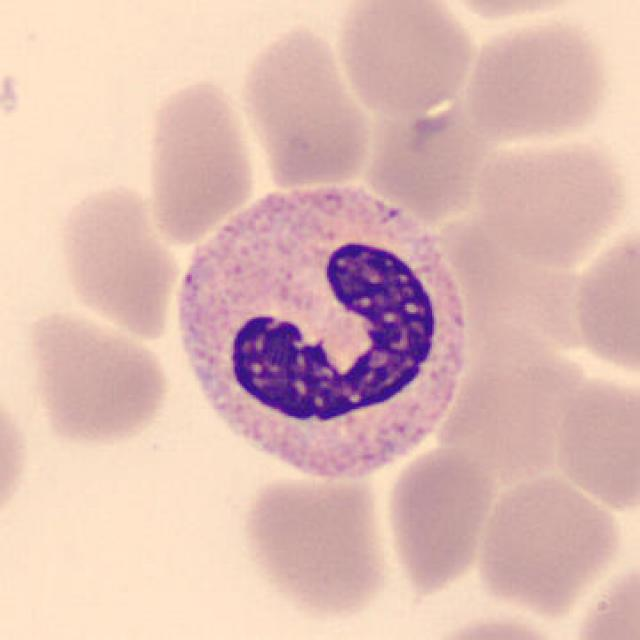Neutrophil: (162, 171, 476, 508)
RBC: (236, 462, 393, 622), (235, 19, 377, 192), (471, 469, 624, 617), (20, 305, 174, 450), (471, 130, 631, 266), (53, 178, 185, 340), (140, 72, 260, 245), (459, 12, 613, 144), (380, 443, 498, 594), (332, 0, 478, 116), (548, 370, 638, 513), (569, 220, 640, 381), (565, 555, 640, 640), (0, 376, 34, 540), (407, 610, 576, 640), (430, 0, 603, 25)
